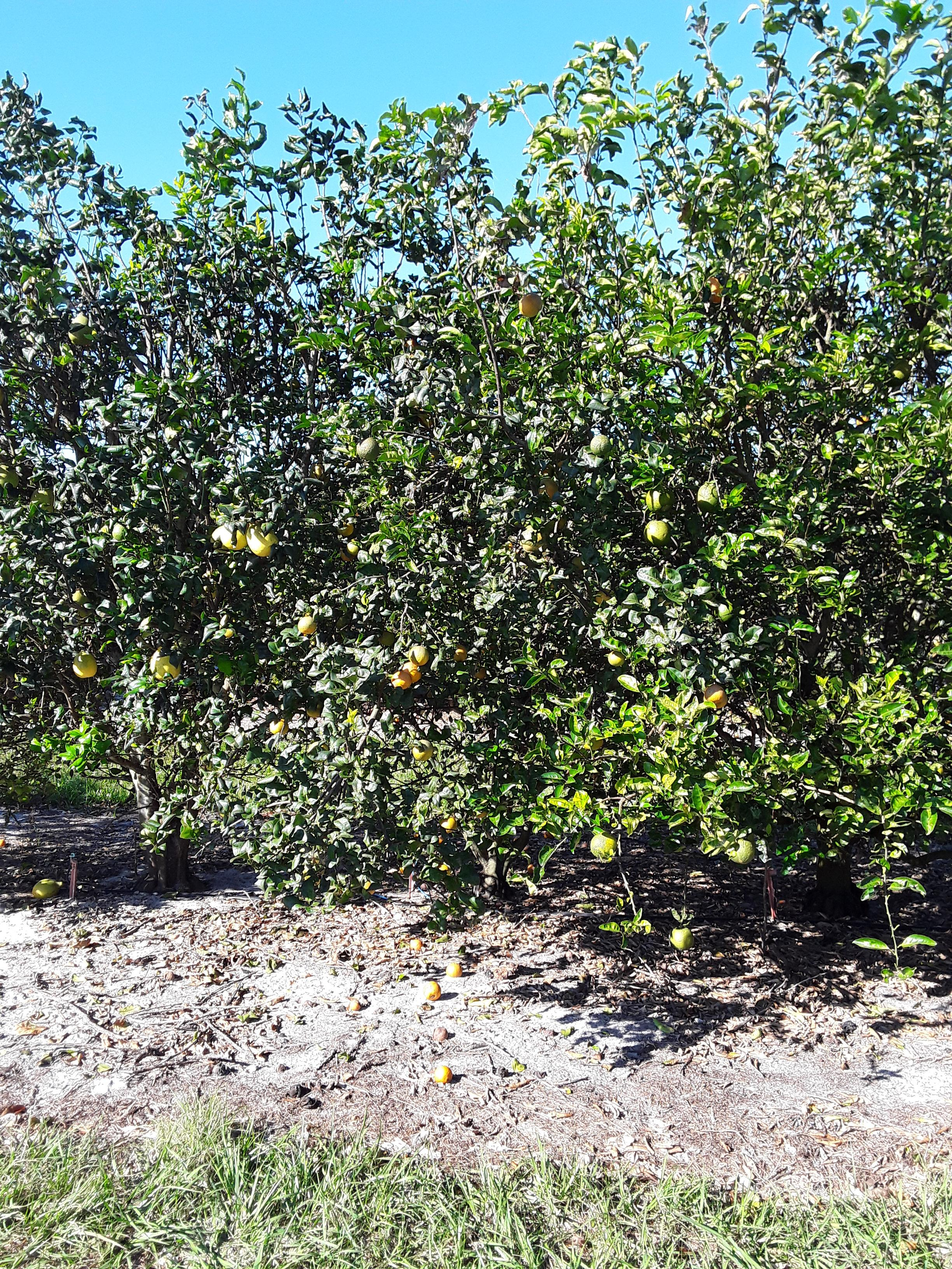fruit_on_ground: (693, 394, 733, 435), (65, 310, 102, 348), (148, 645, 184, 680), (248, 518, 279, 558), (221, 519, 254, 552), (641, 518, 674, 548), (700, 273, 730, 305), (642, 484, 676, 512), (70, 648, 99, 680), (589, 830, 619, 860), (352, 436, 382, 465), (28, 485, 58, 514), (724, 835, 754, 864), (693, 482, 721, 513), (700, 685, 728, 716), (306, 458, 333, 487), (520, 524, 546, 554), (531, 477, 562, 502), (514, 293, 545, 318), (492, 269, 522, 293), (586, 435, 614, 460), (305, 694, 331, 720), (578, 726, 605, 750), (887, 358, 914, 382), (396, 661, 425, 683), (305, 738, 331, 762), (606, 644, 630, 669), (932, 705, 952, 735), (395, 335, 424, 355), (263, 716, 289, 738), (294, 612, 317, 636), (67, 586, 92, 608), (553, 453, 574, 479), (539, 567, 560, 593), (532, 458, 556, 480), (0, 465, 21, 490), (591, 586, 617, 606), (111, 521, 132, 544), (409, 645, 432, 666), (332, 517, 357, 536), (924, 760, 946, 781), (743, 365, 766, 385), (302, 867, 324, 887), (411, 739, 432, 759), (741, 398, 760, 419), (566, 552, 585, 573), (98, 521, 116, 542), (379, 630, 400, 648), (390, 672, 410, 690), (451, 643, 470, 661), (360, 877, 378, 895), (438, 813, 457, 830), (852, 414, 872, 430), (348, 537, 365, 555), (384, 713, 405, 727), (207, 582, 224, 598), (219, 623, 235, 638), (439, 862, 454, 877), (339, 548, 353, 563), (474, 665, 490, 677), (477, 648, 490, 659)
fruit_on_tree: (664, 923, 695, 953), (429, 1061, 455, 1088), (423, 981, 442, 1002), (287, 1082, 309, 1098), (431, 1026, 449, 1043), (155, 970, 176, 984), (407, 937, 424, 953), (346, 999, 362, 1016), (446, 962, 463, 977), (542, 828, 556, 841), (396, 863, 409, 876), (525, 860, 537, 874), (0, 838, 10, 850)
